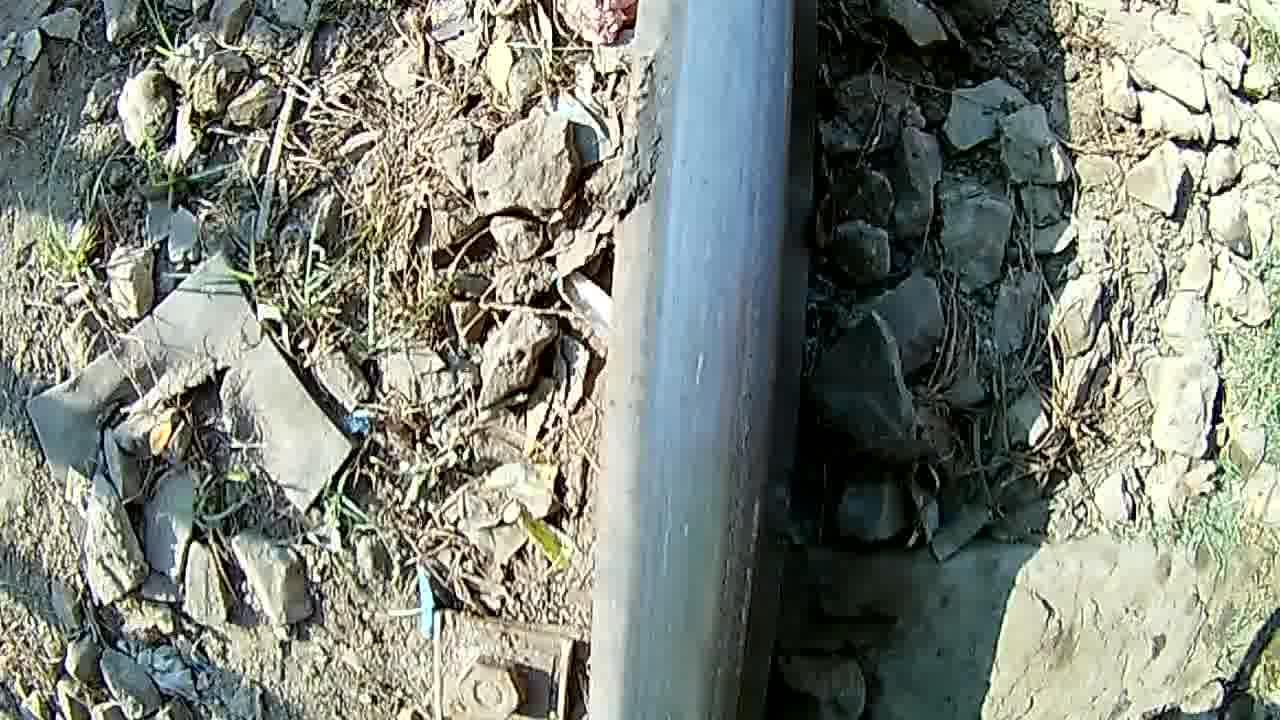crack: (596, 3, 800, 720)
